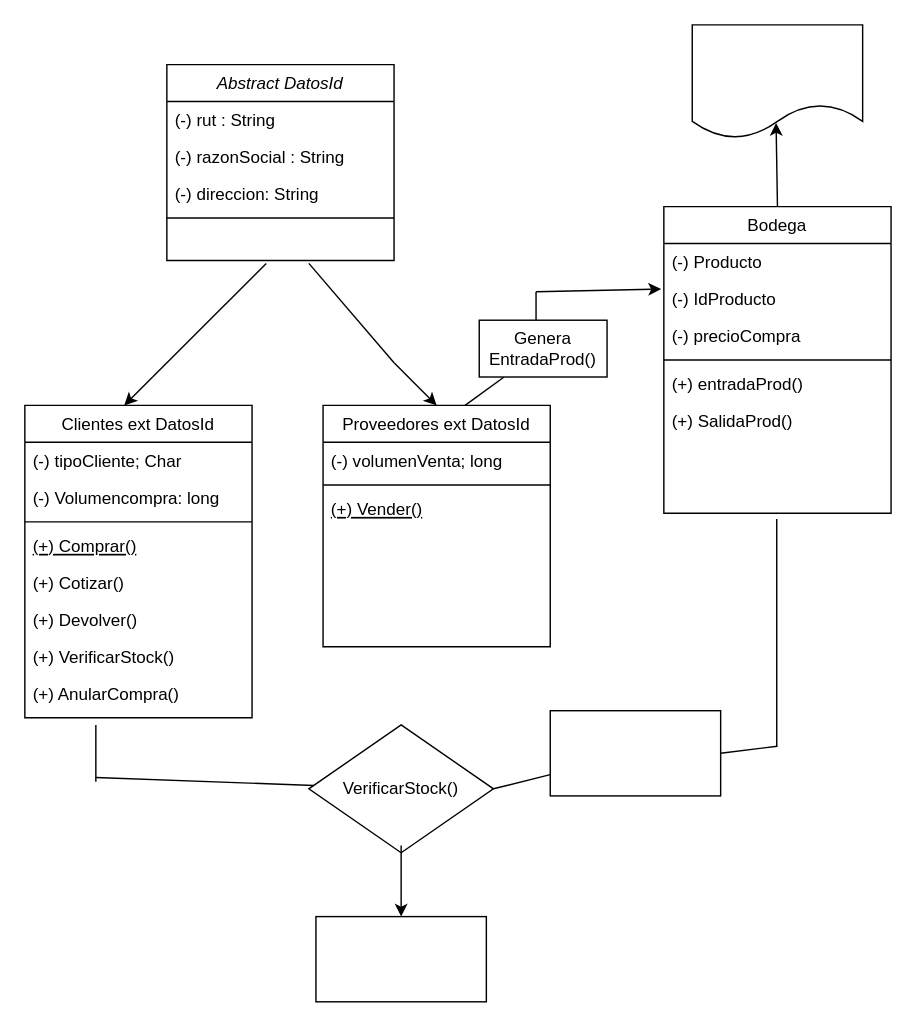
This 916x1027 diagram has some shape labels left out. The shapes that lost their labels are listed below. From the top down, each one's centre as x and y in pixels, then its label:
At (777,80): "Generar Orden de pedido Comprar()".
At (635,752): "Si es True ejec Salida()".
At (400,958): "Sino AnularCompra()".
